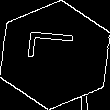L_E: (26, 37, 84, 73)
